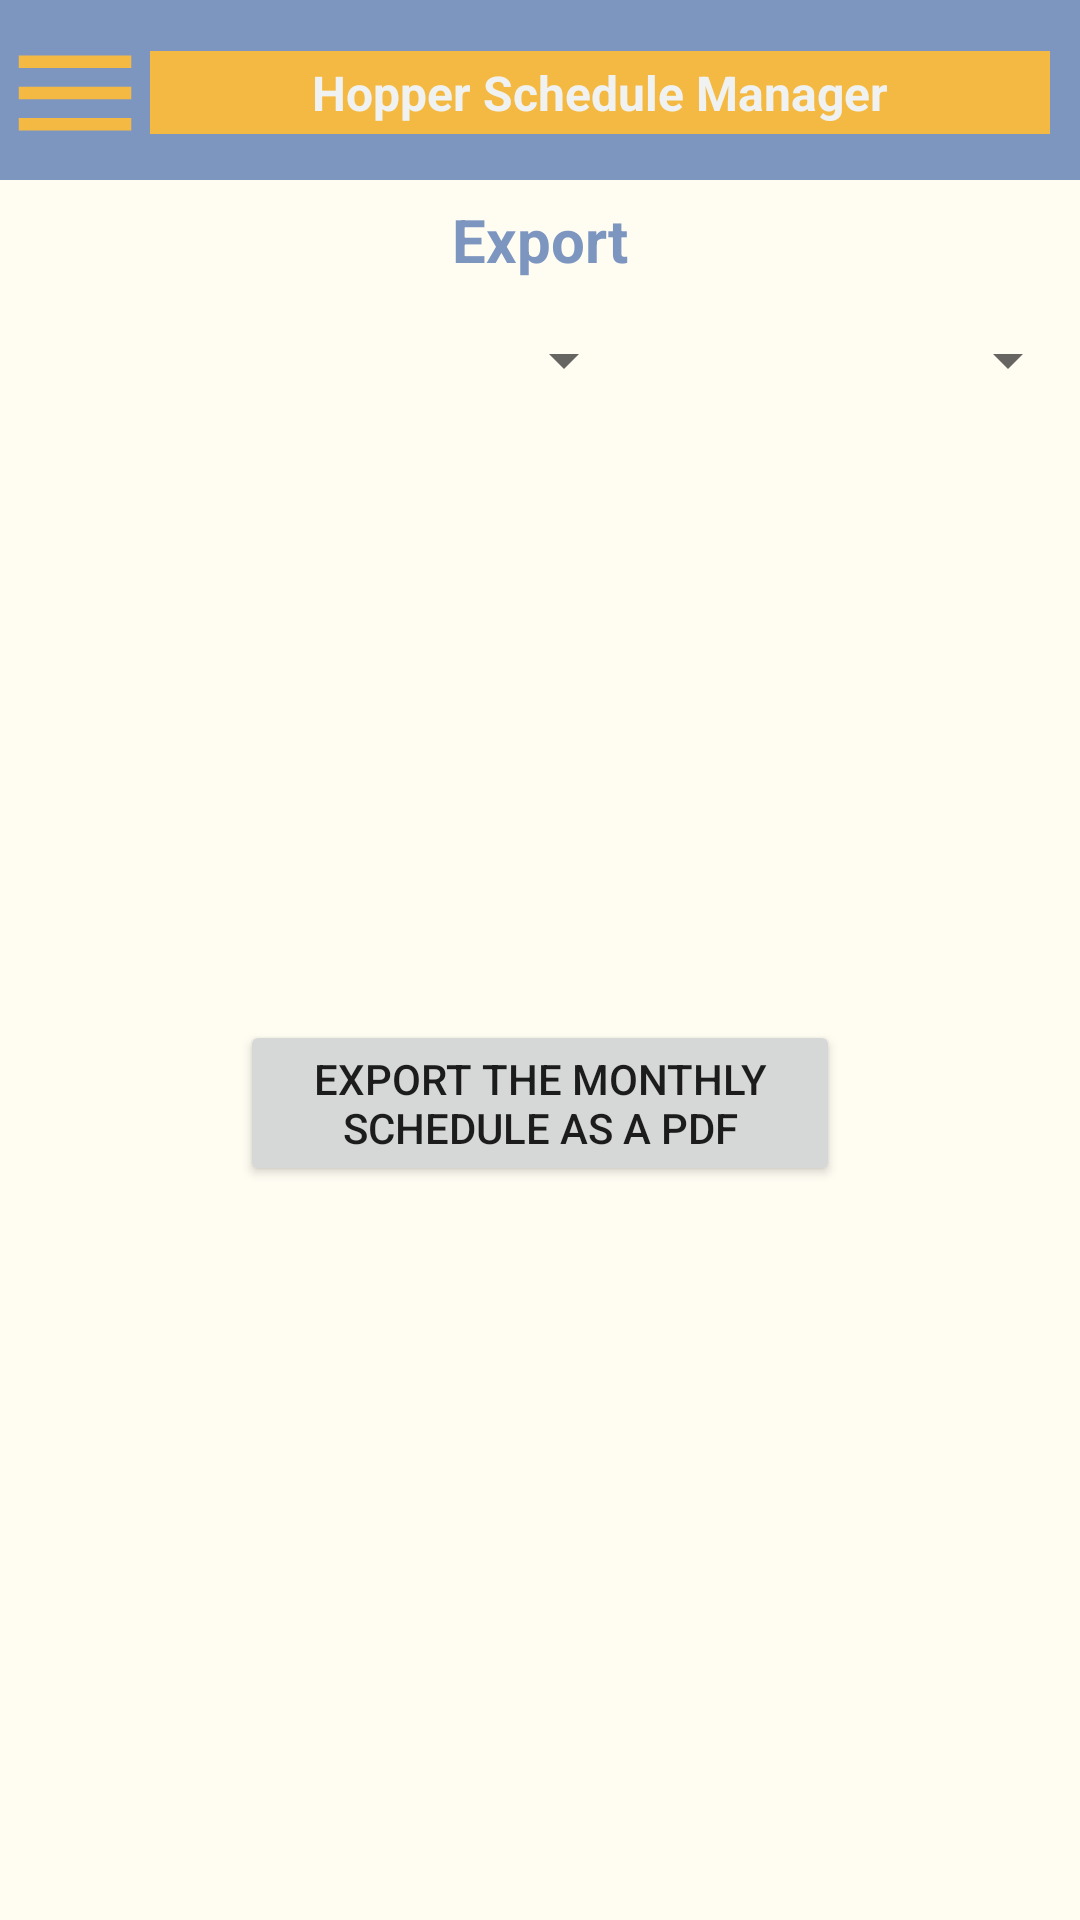

Screen size 1080 × 1920. Icon name, then its center in pixels as (x=x, y=y):
menu: (x=75, y=93)
